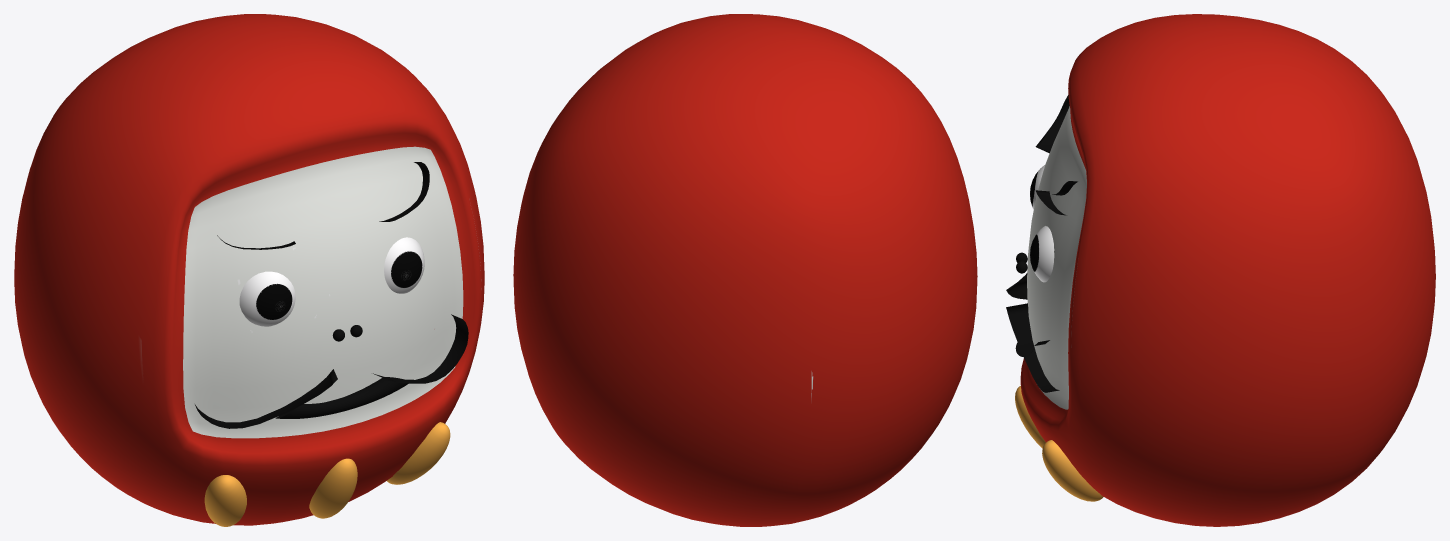
File: main_Daruma3.gltf
The picture shows the model from 3 angles, left to right: view 1: azimuth 30°, elevation 25°; view 2: azimuth 150°, elevation 25°; view 3: azimuth 270°, elevation 25°; orthographic projection.
Parts seen in each view (by area): view 1: karada, me, shita1.001, hige, shita1, kuti, mayu; view 2: karada; view 3: karada, hige, shita1.001, me, mayu, shita1.
Boxes of the visible parts, x1,y1,x2,y2 form: karada: (14,14,484,525); me: (239,237,424,326); shita1.001: (204,422,450,526); hige: (195,314,468,428); shita1: (309,458,357,518); kuti: (275,377,410,418); mayu: (217,162,429,249); karada: (513,14,977,526); karada: (1020,14,1435,526); hige: (1006,273,1059,392); shita1.001: (1042,440,1103,501); me: (1030,165,1054,282); mayu: (1035,94,1077,215); shita1: (1015,386,1045,448).
Size of the model in its own units: 4.9 by 5.4 by 4.52.
4 materials, 2 textured.
